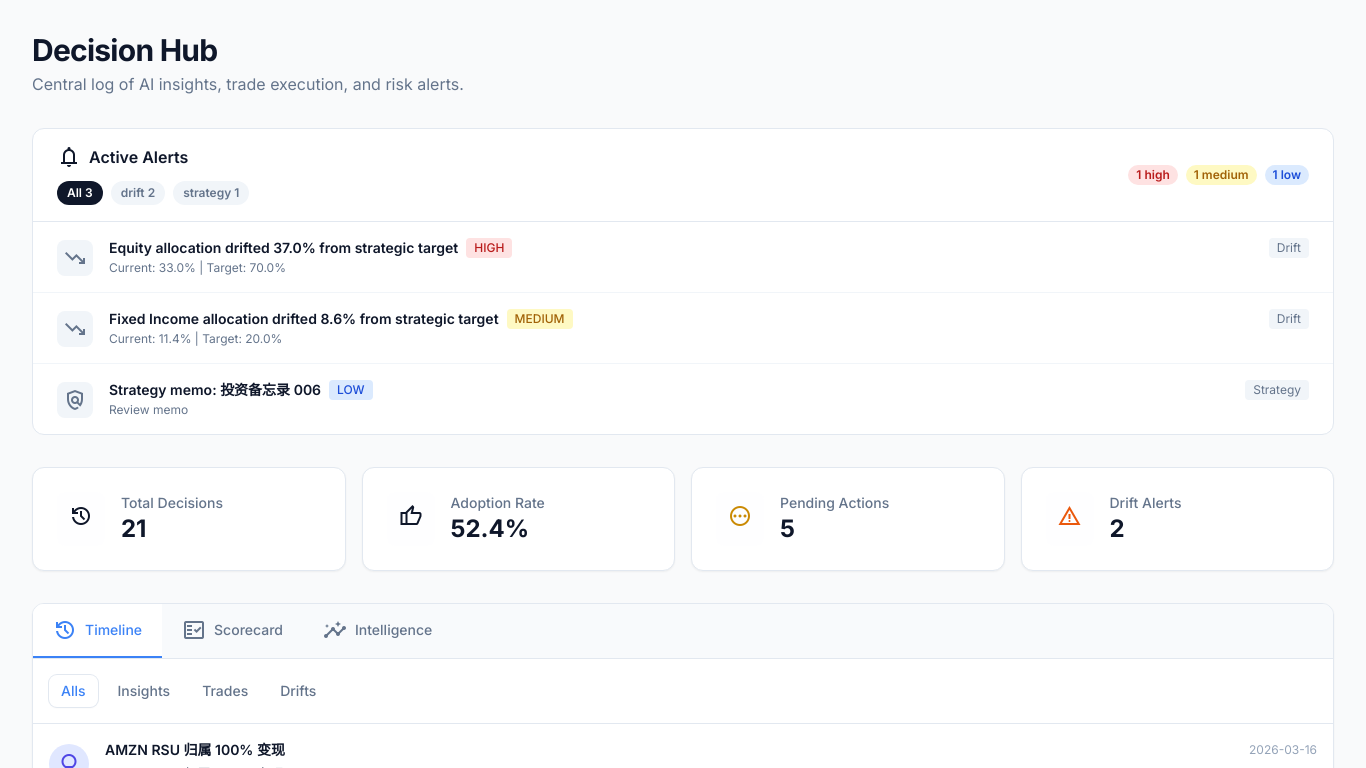
DecisionHub cards › returns to timeline when total decisions card is clicked
Click the button "Scorecard" at [232, 631], box [162,604,303,658]
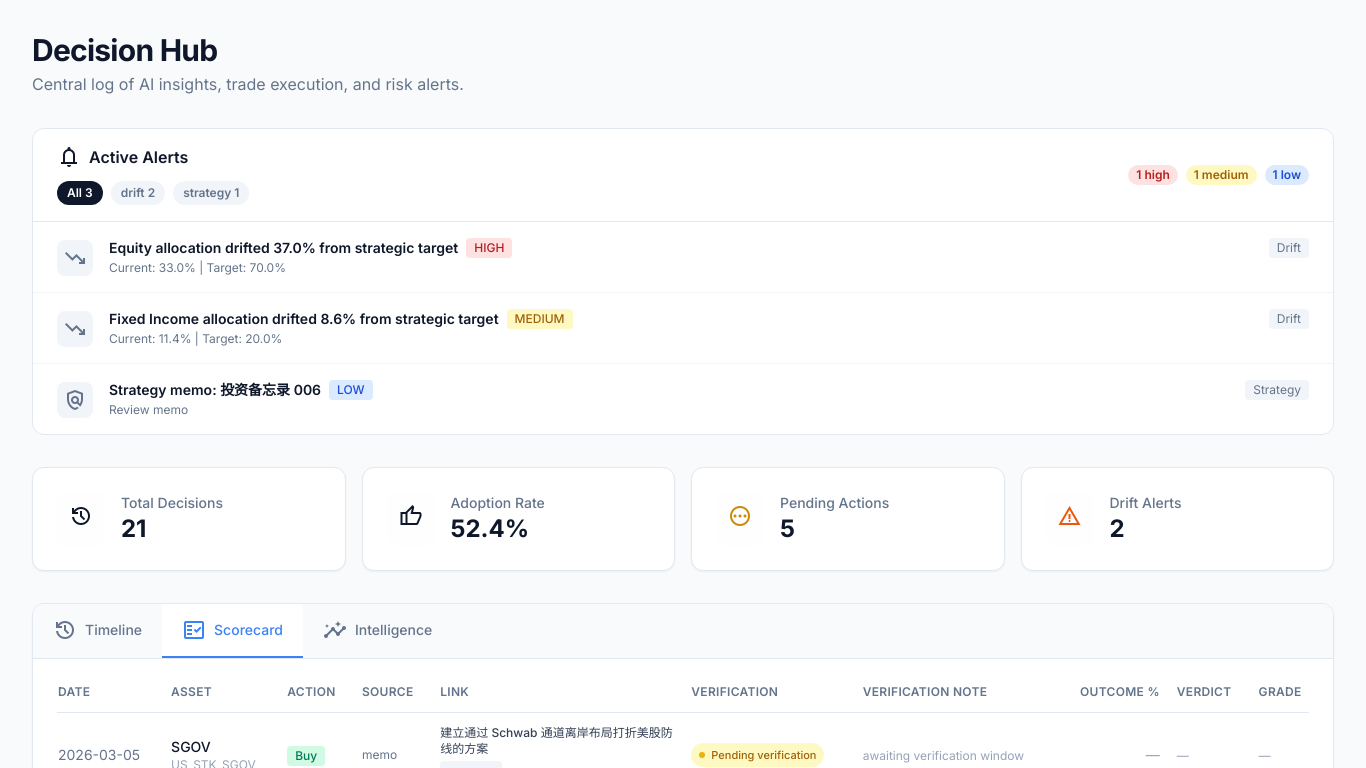
Expected: the text "建立通过 Schwab 通道离岸布局打折美股防线的方案" is shown, [440,725,674,757]
Click the button "Total Decisions 21" at [81, 519], box [32,467,346,571]
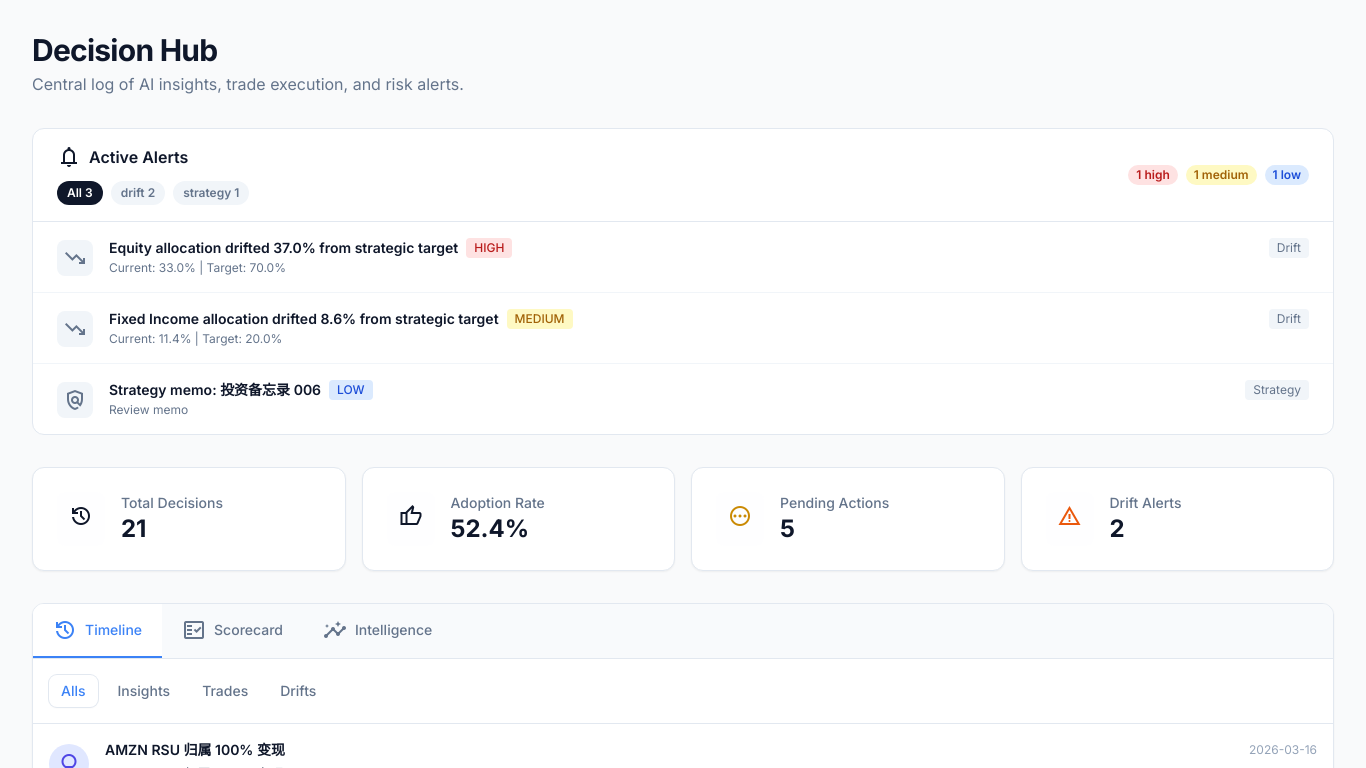
Expected: the heading "AMZN RSU 归属 100% 变现" is shown, [105,740,285,760]
